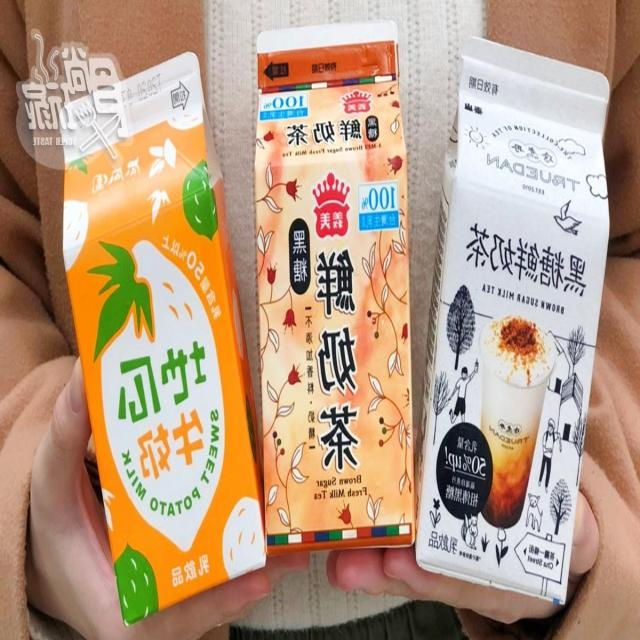cardboard: (61, 47, 262, 628), (416, 36, 612, 601), (258, 16, 412, 550)
